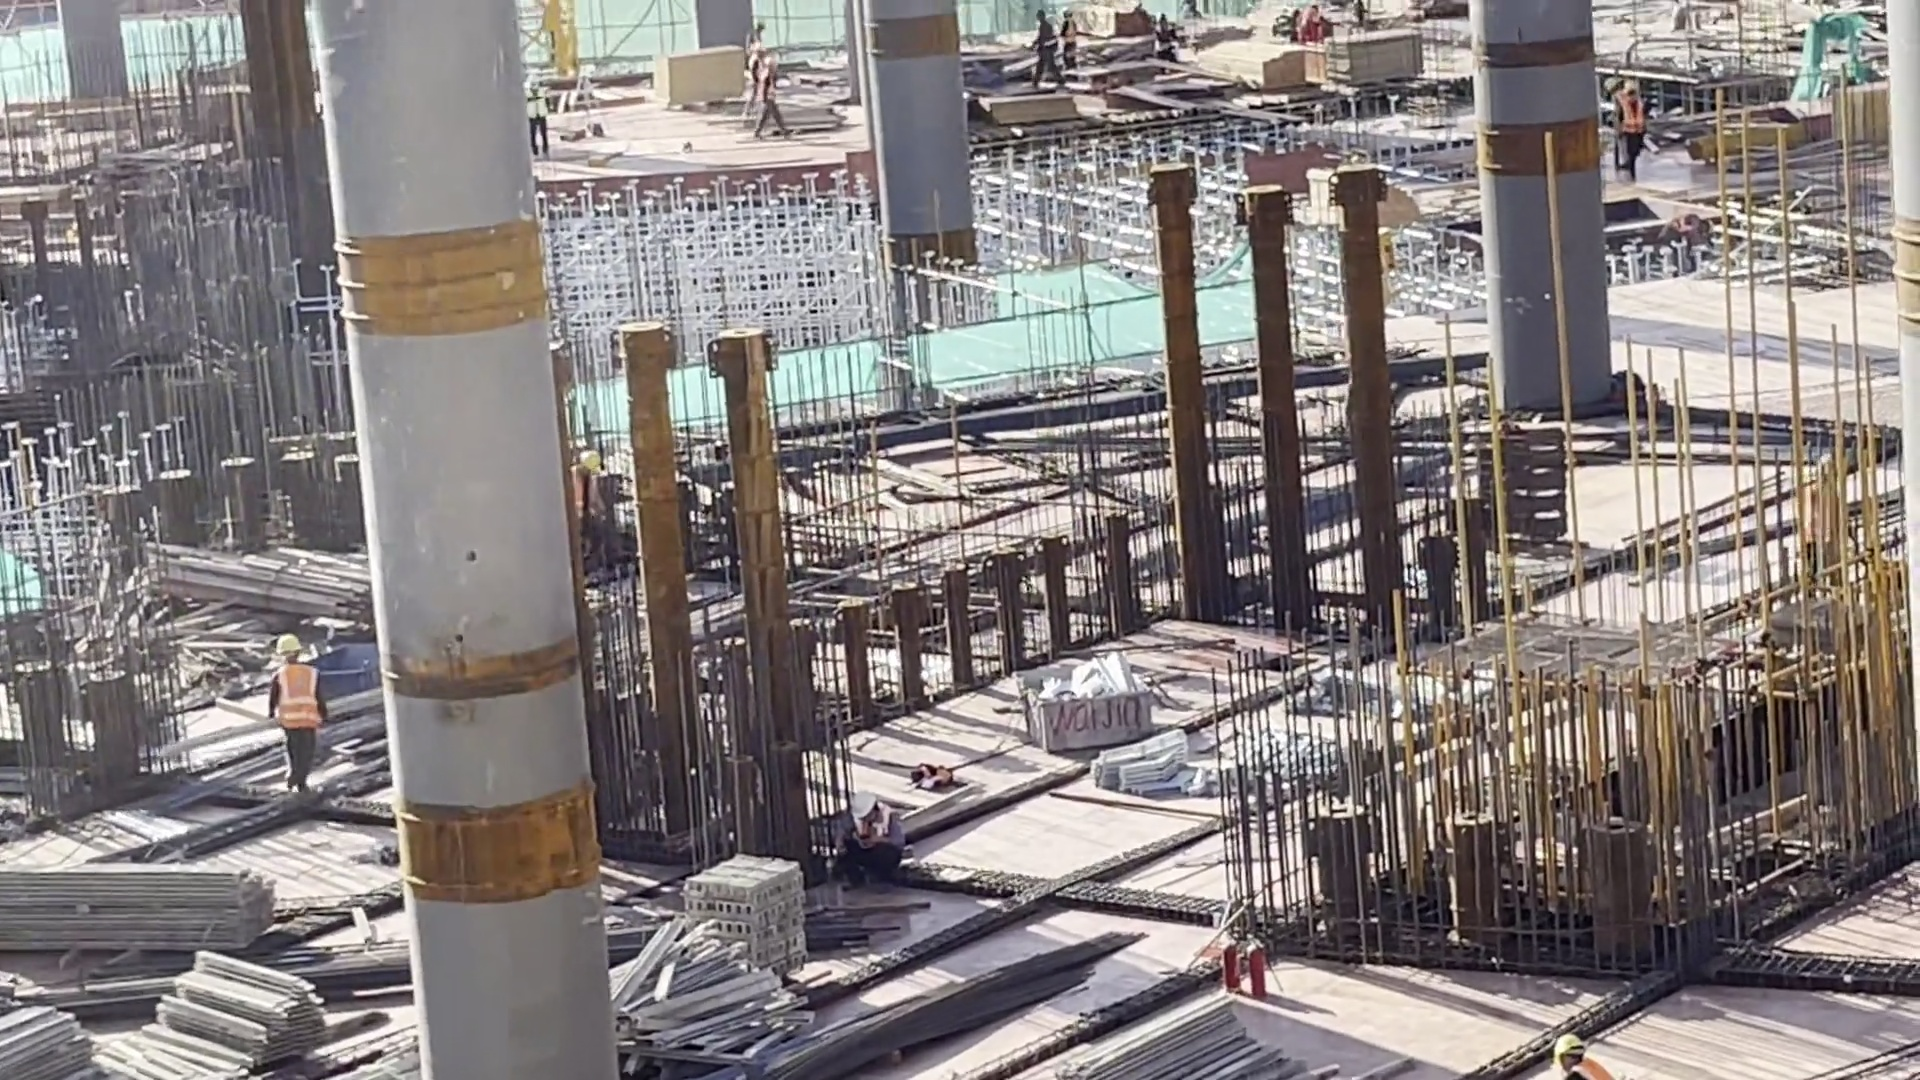helmet: (845, 787, 879, 820), (1556, 1026, 1583, 1053), (576, 448, 601, 473), (279, 637, 309, 653), (1622, 80, 1639, 98), (527, 75, 537, 88)
hopper: (1012, 650, 1155, 763), (289, 622, 381, 711)
person: (248, 609, 341, 790), (835, 770, 911, 898), (556, 442, 606, 550), (1033, 9, 1096, 86), (1618, 75, 1649, 197), (750, 26, 782, 133), (524, 67, 555, 145)
vest: (273, 662, 322, 744), (569, 465, 597, 524), (1617, 92, 1646, 133), (529, 92, 550, 118), (1064, 18, 1073, 41)
wood: (15, 850, 275, 965), (147, 939, 333, 1054), (1192, 24, 1301, 101)
